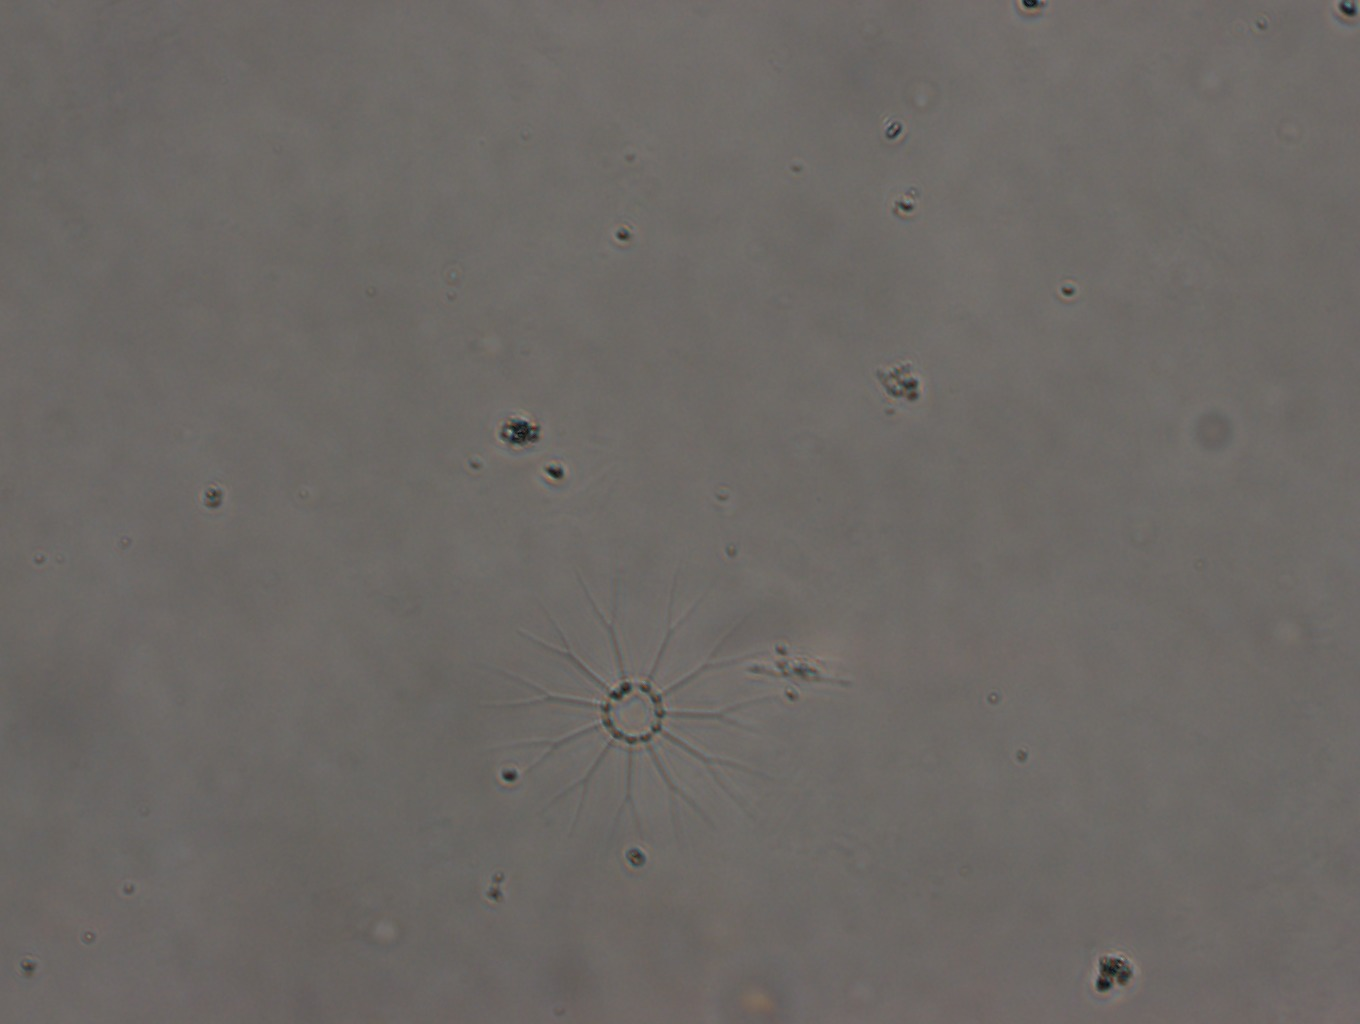bacteriastrum: (482, 564, 804, 867)
